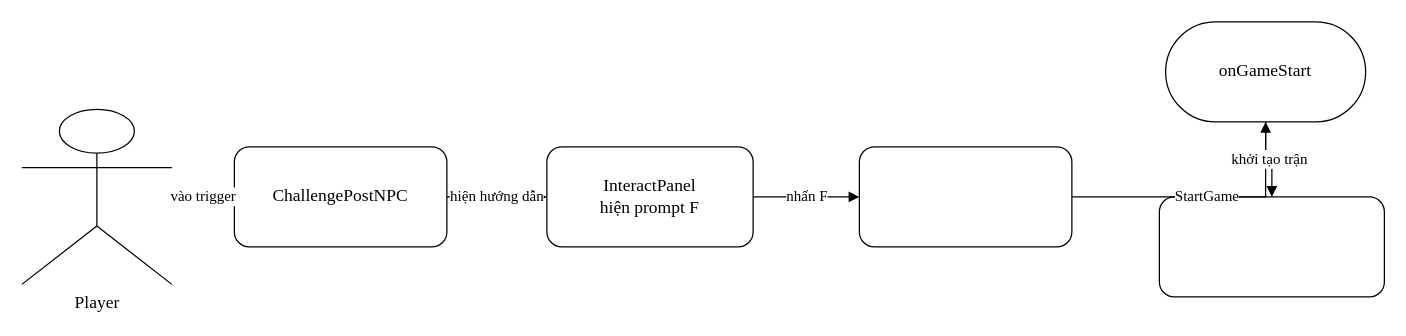
Some shapes in this 1406 by 336 pixel diagram are drawn without their labels. The shapes that lost their labels are listed below. From the top down, each one's box as (x1, y1, x2, y2) in pixels, then its label:
(858, 146, 1072, 247): ChallengePanel ShowTutorial
(1158, 196, 1384, 297): WaveSpawner StartNextWave
